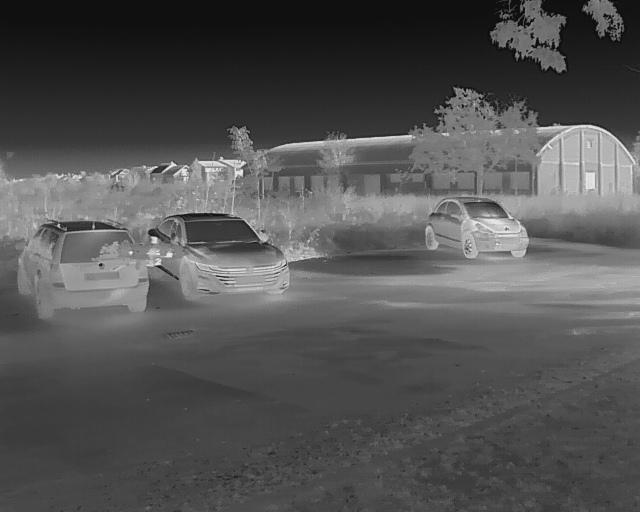drone: (88, 226, 198, 283)
